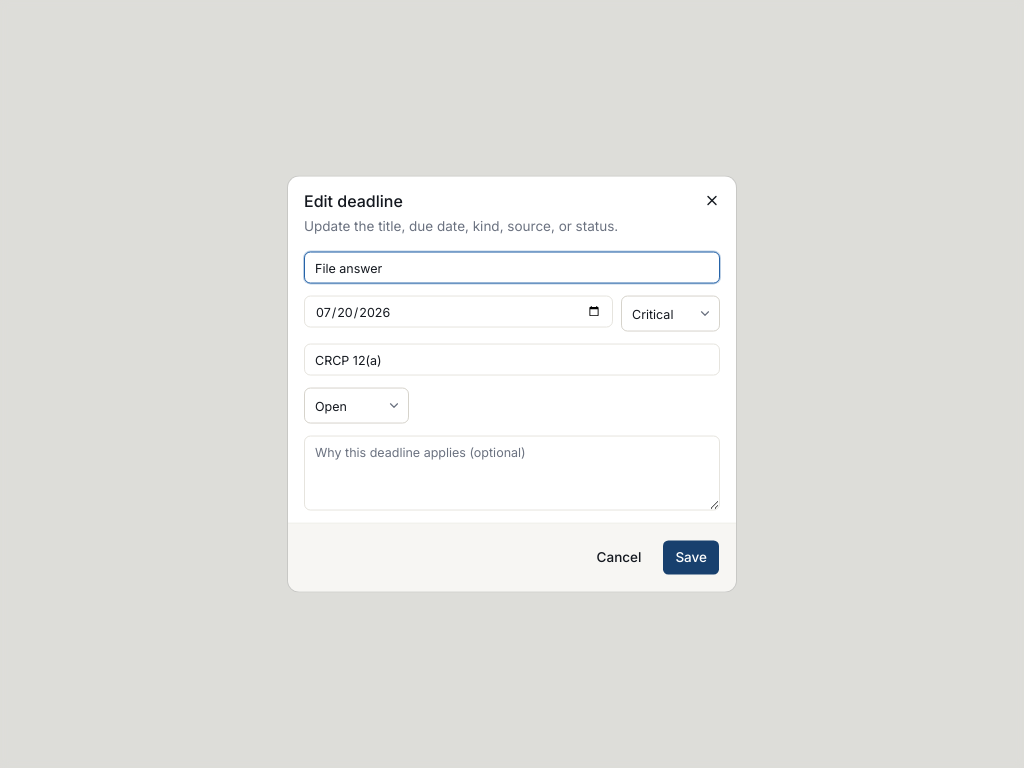
Scenario: EditDeadlineDialog - keeps what the user typed › a validation error does not wipe the fields
This screenshot has width=1024, height=768.
Replace the text in the 1st field with placeholder "Deadline title" with "Edited title" at coordinates (512, 268), box [304,252,720,284]
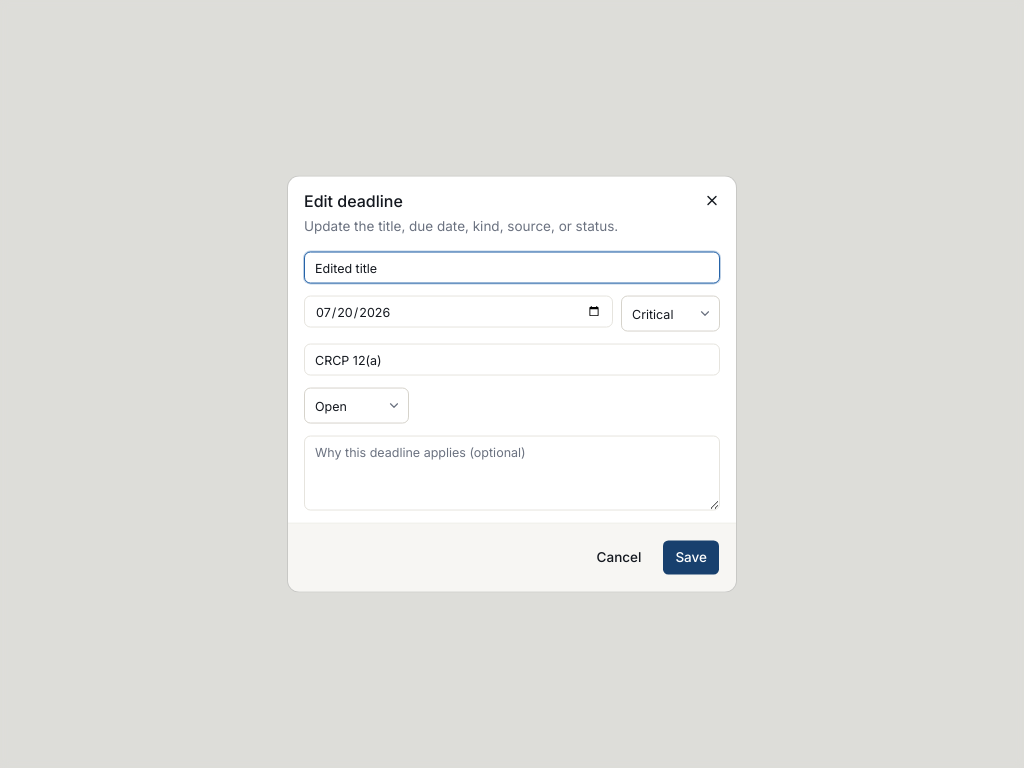
Click the button "Save".
click(691, 558)  # box [662,540,720,576]
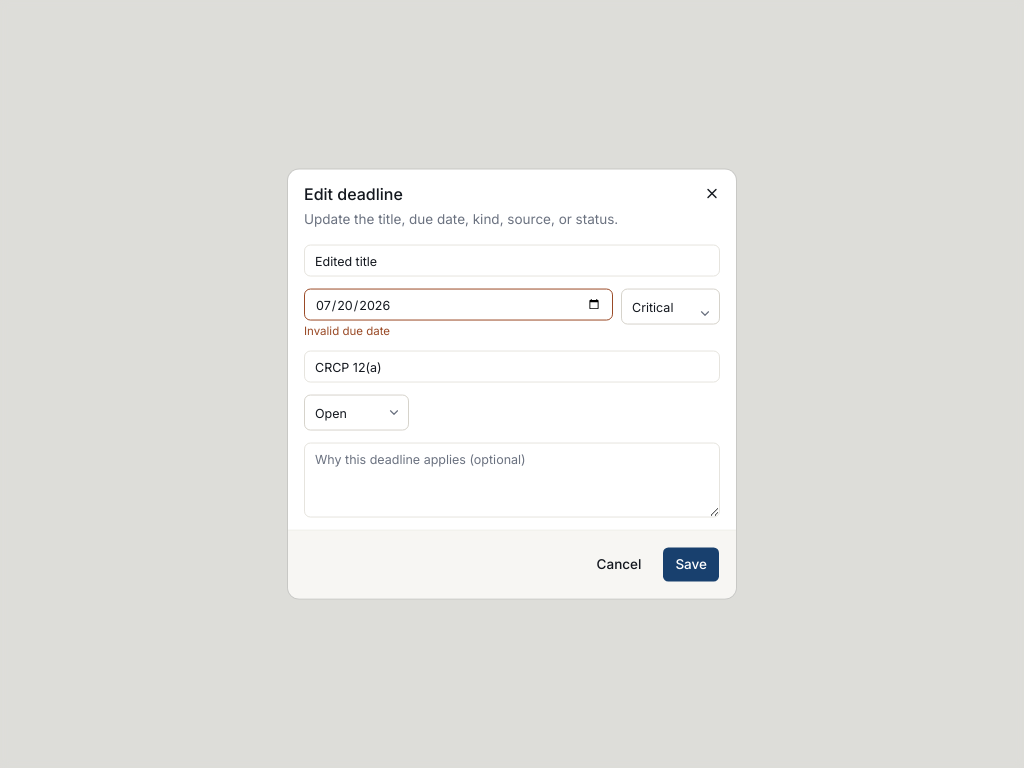
expect the text "Invalid due date" is shown: met, box [304,324,390,338]
